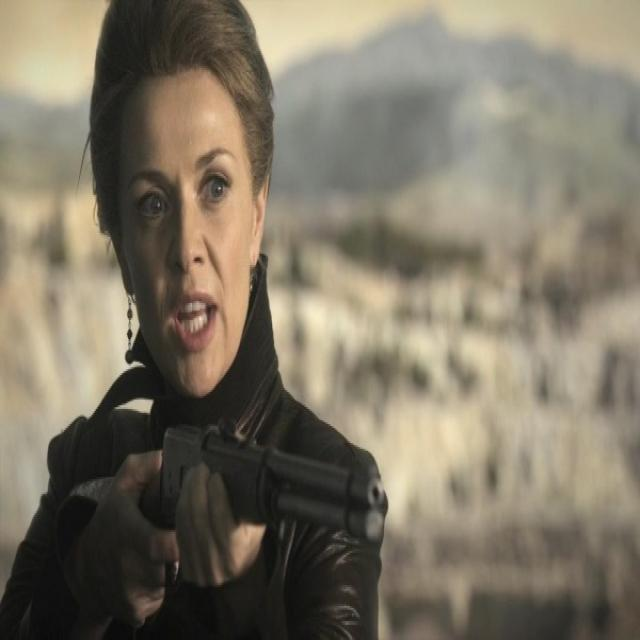rifle: (61, 417, 389, 552)
